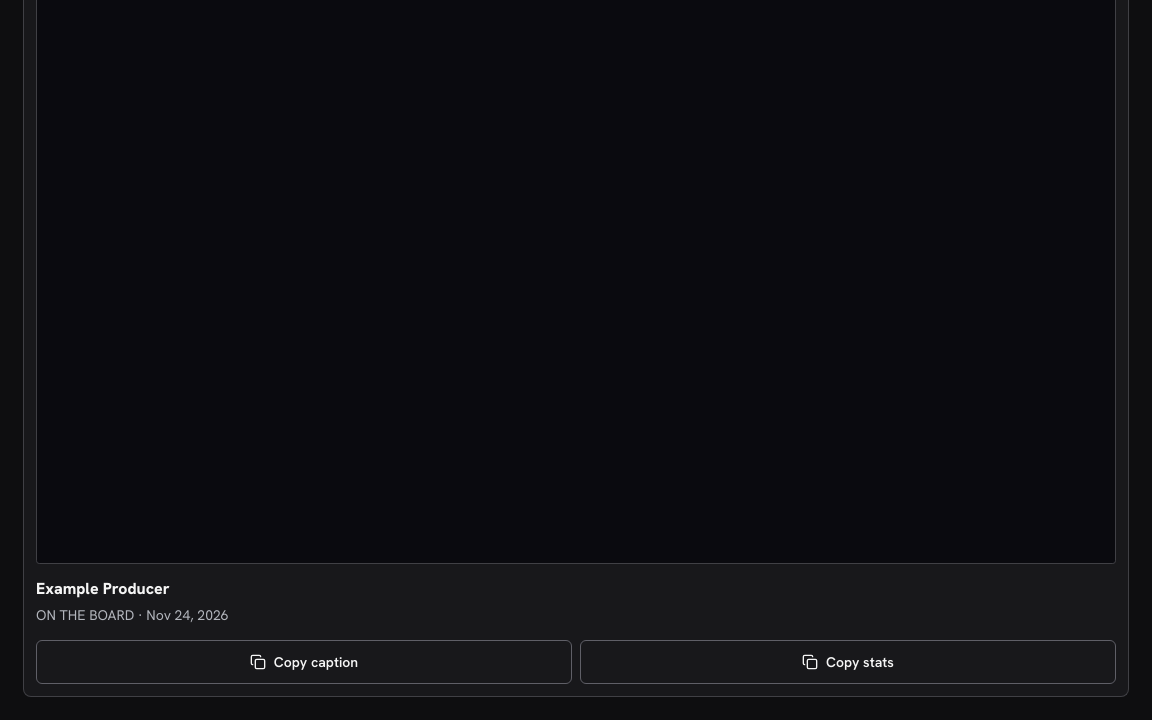
Scenario: Win Post Studio › uses the actual feed period and provides per-card copy controls without publishing
Later steps or results of the test are not shown.
(page scrolled)
Click the button "Copy caption" at (304, 662), box [36,640,572,684]
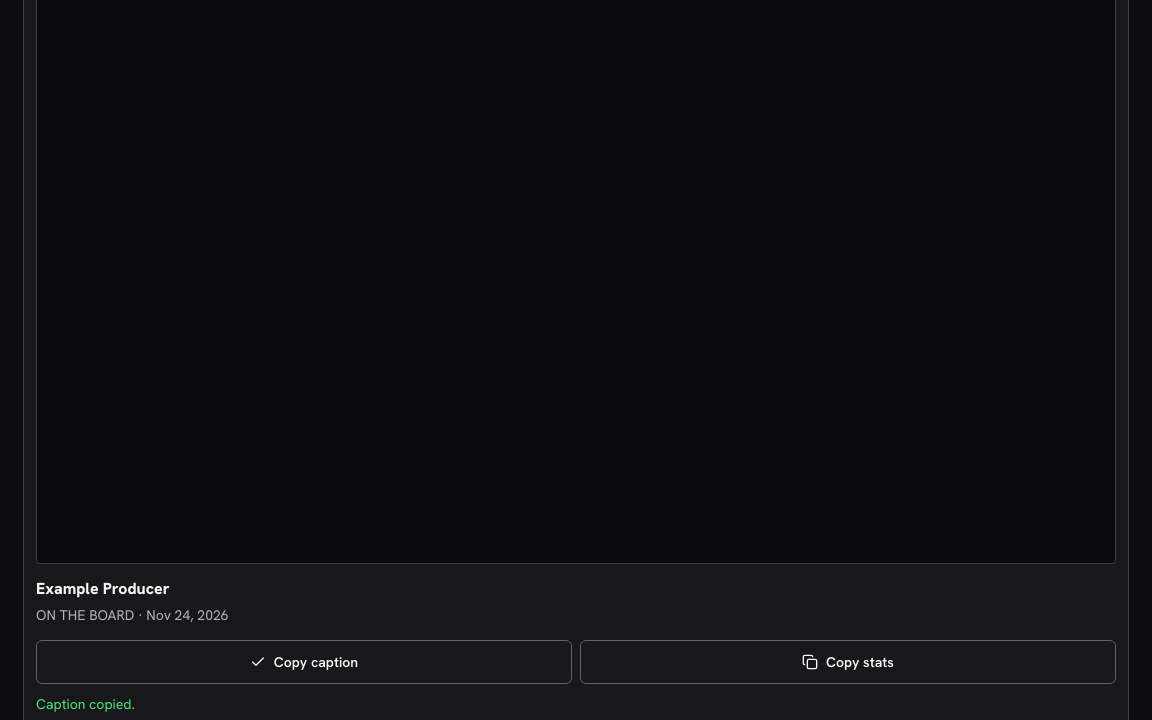
expect the text "Caption copied." is shown: met, box [36,695,135,713]
